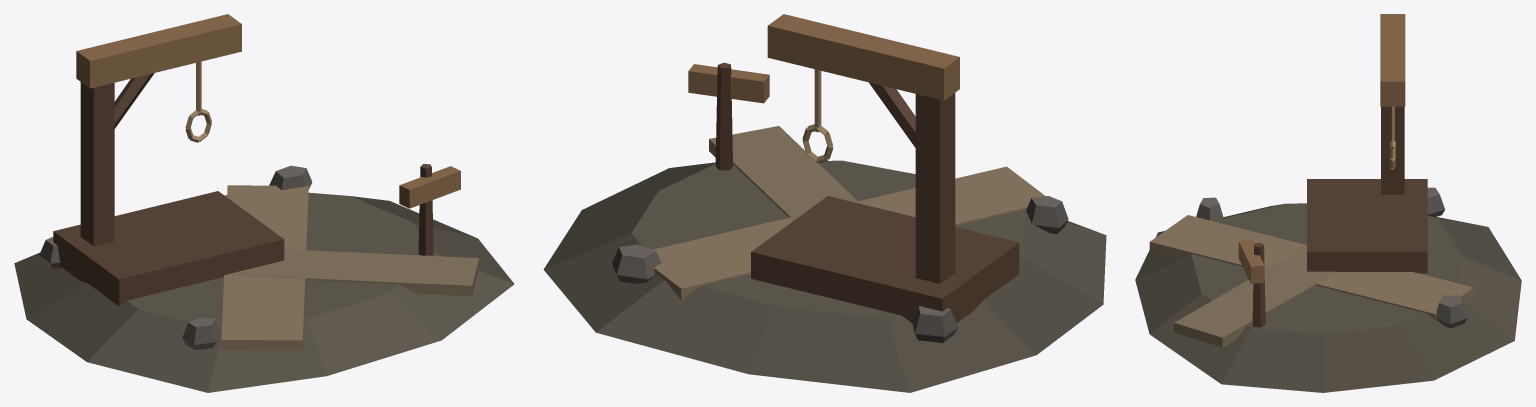
The model's file is crossroads.glb.
3 views of the same model, side by side, from view 1: azimuth 30°, elevation 25°; view 2: azimuth 150°, elevation 25°; view 3: azimuth 270°, elevation 25° (orthographic). The views are drawn at different scales.
Parts seen in each view (by area): view 1: The Gallows Crossroads · atlas landmark; view 2: The Gallows Crossroads · atlas landmark; view 3: The Gallows Crossroads · atlas landmark.
Part boxes in pixels (x1,y1,x2,y2): The Gallows Crossroads · atlas landmark: [14, 14, 514, 392]; The Gallows Crossroads · atlas landmark: [543, 14, 1106, 392]; The Gallows Crossroads · atlas landmark: [1135, 14, 1521, 392].
Bounding box in the file's own units: 1.92 × 1.11 × 1.67.
